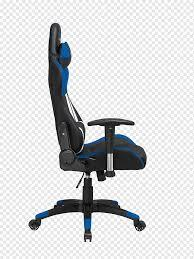chair: (27, 22, 148, 242)
